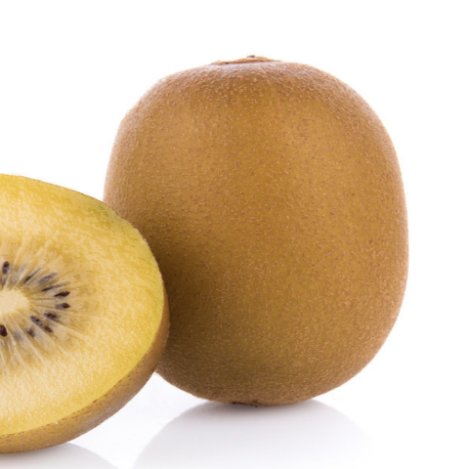kiwi: (52, 41, 467, 446)
